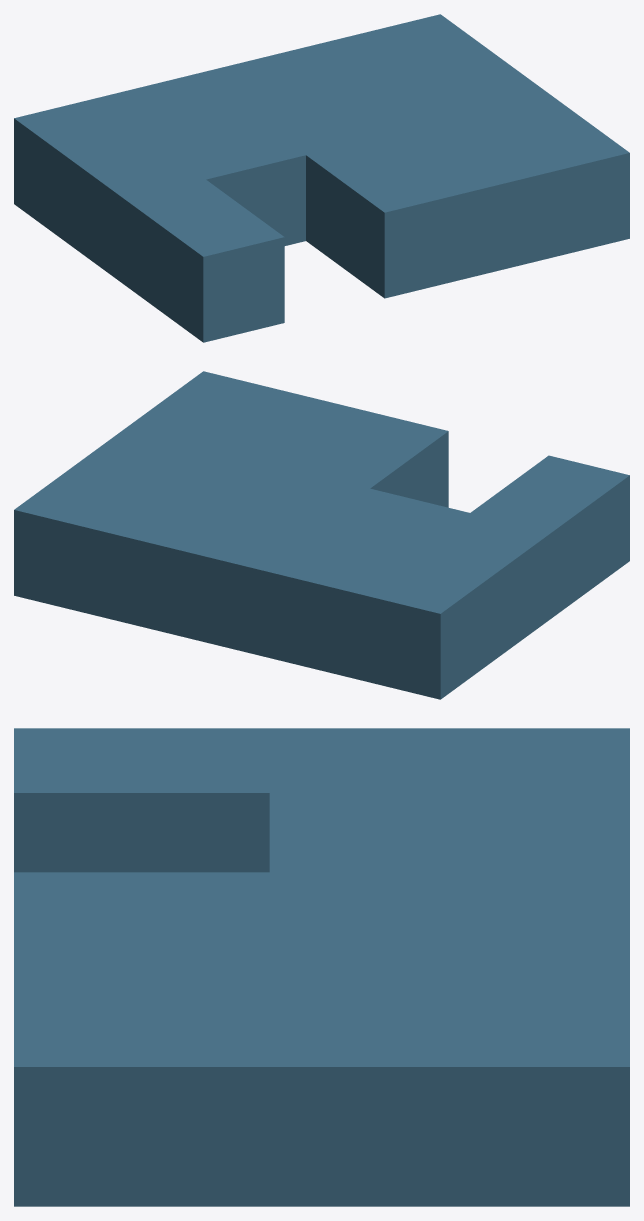
File: Cubo.FBX
The picture shows the model from 3 angles, top to bottom: view 1: azimuth 30°, elevation 25°; view 2: azimuth 150°, elevation 25°; view 3: azimuth 270°, elevation 25°; orthographic projection. The views are drawn at different scales.
Parts seen in each view (by area): view 1: cubo; view 2: cubo; view 3: cubo.
Boxes of the visible parts, x1,y1,x2,y2 form: cubo: (14, 14, 629, 342); cubo: (14, 371, 629, 699); cubo: (14, 728, 629, 1206).
Size of the model in its own units: 52 by 10 by 40.
